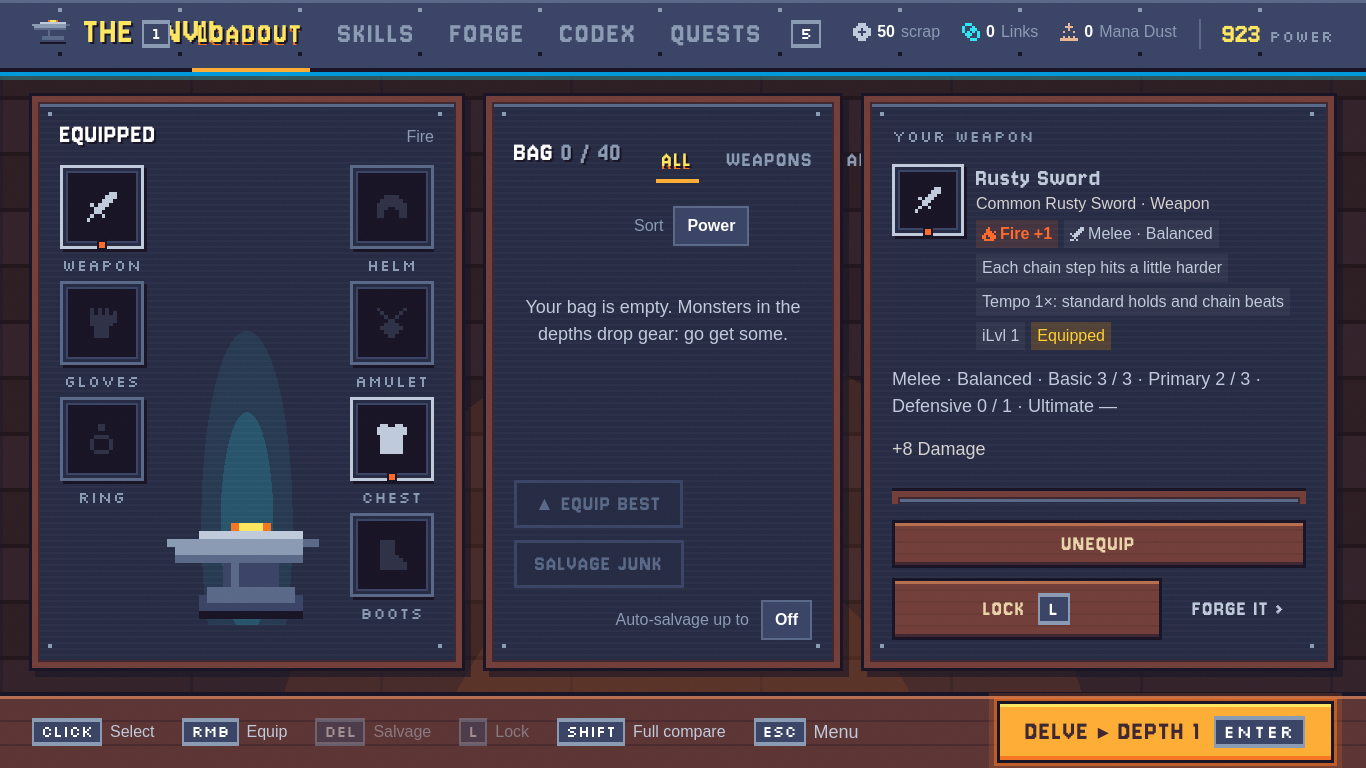
AnvilHub › the sheet's Back (or Esc) returns to the hub without a dive
Click the button with test id "depart-button" at (1165, 732), box top-left (996, 701), bottom-right (1334, 763)
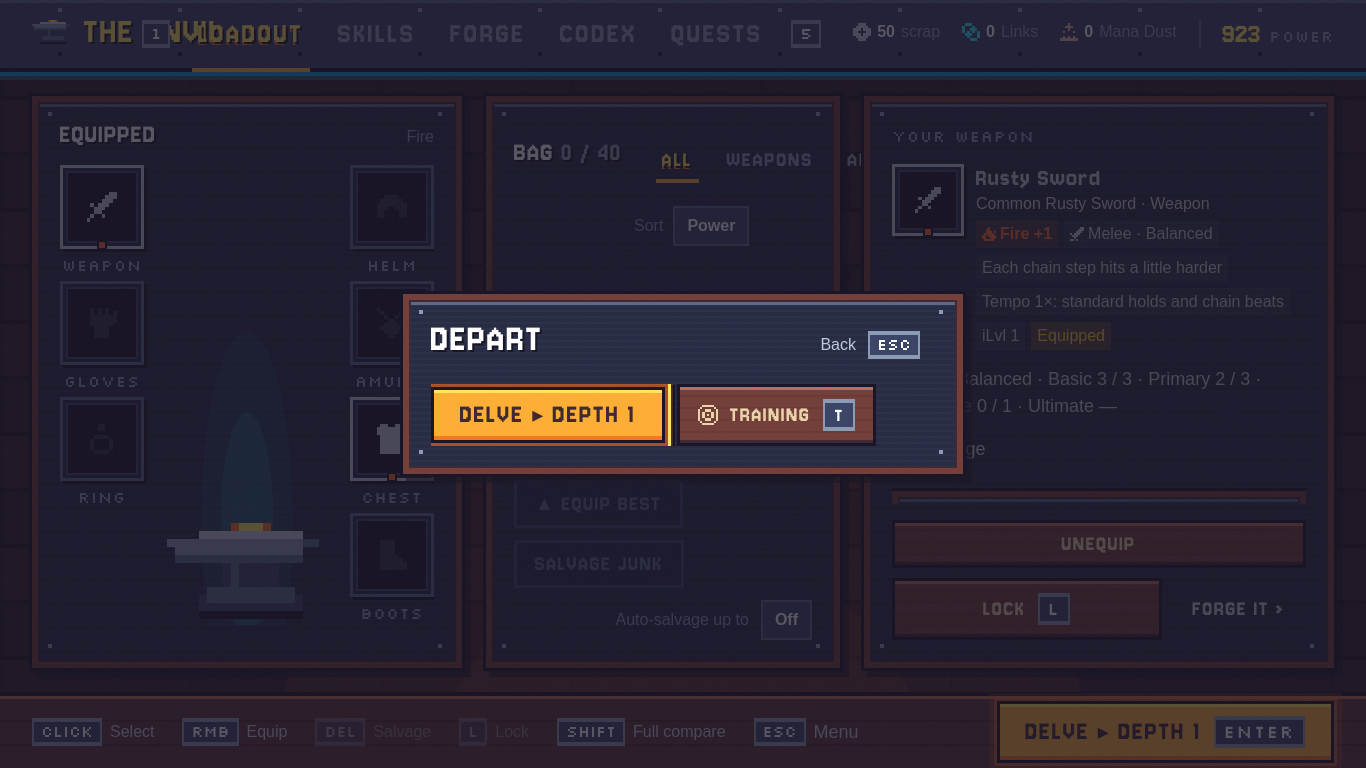
Click the button "Back Esc" at (870, 345), box top-left (805, 322), bottom-right (935, 368)
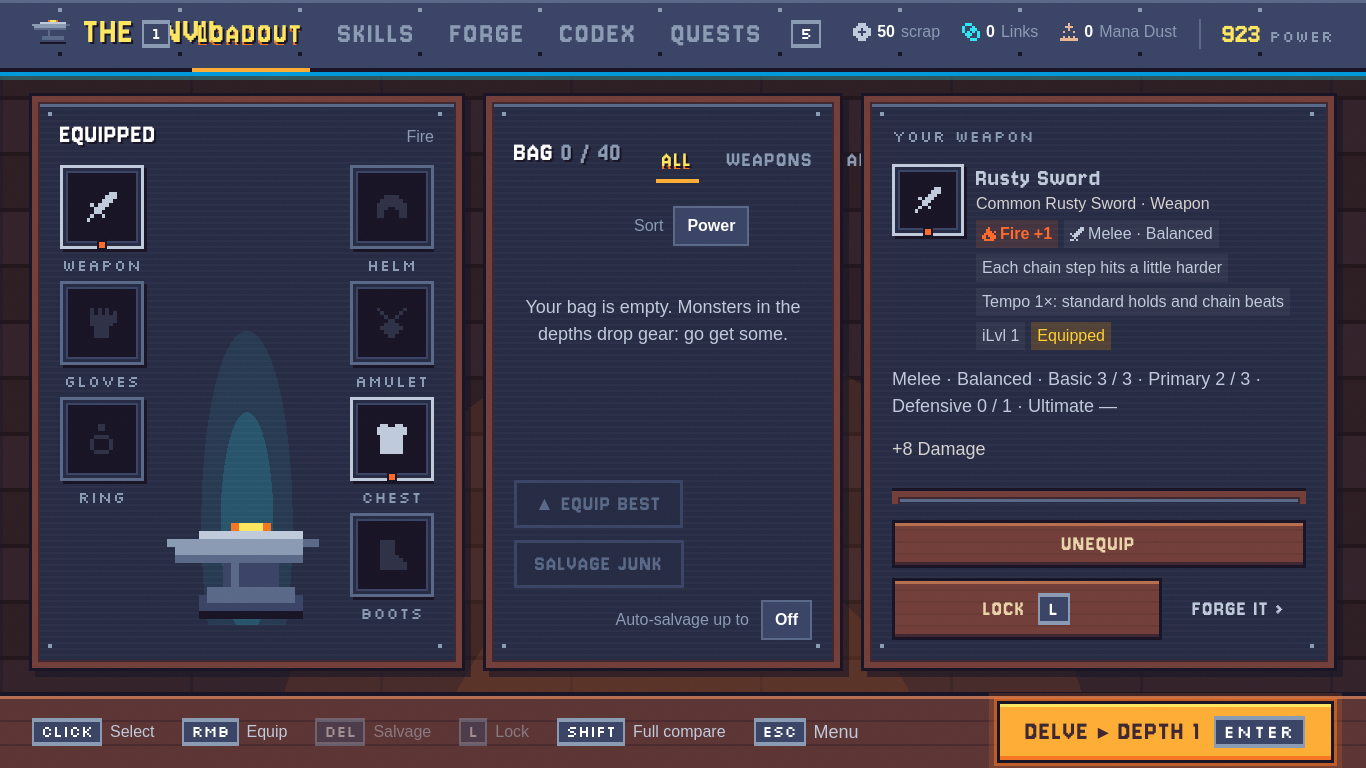
expect the dialog with test id "depart-sheet" is gone: met
Click the button with test id "depart-button" at (1165, 732), box top-left (996, 701), bottom-right (1334, 763)
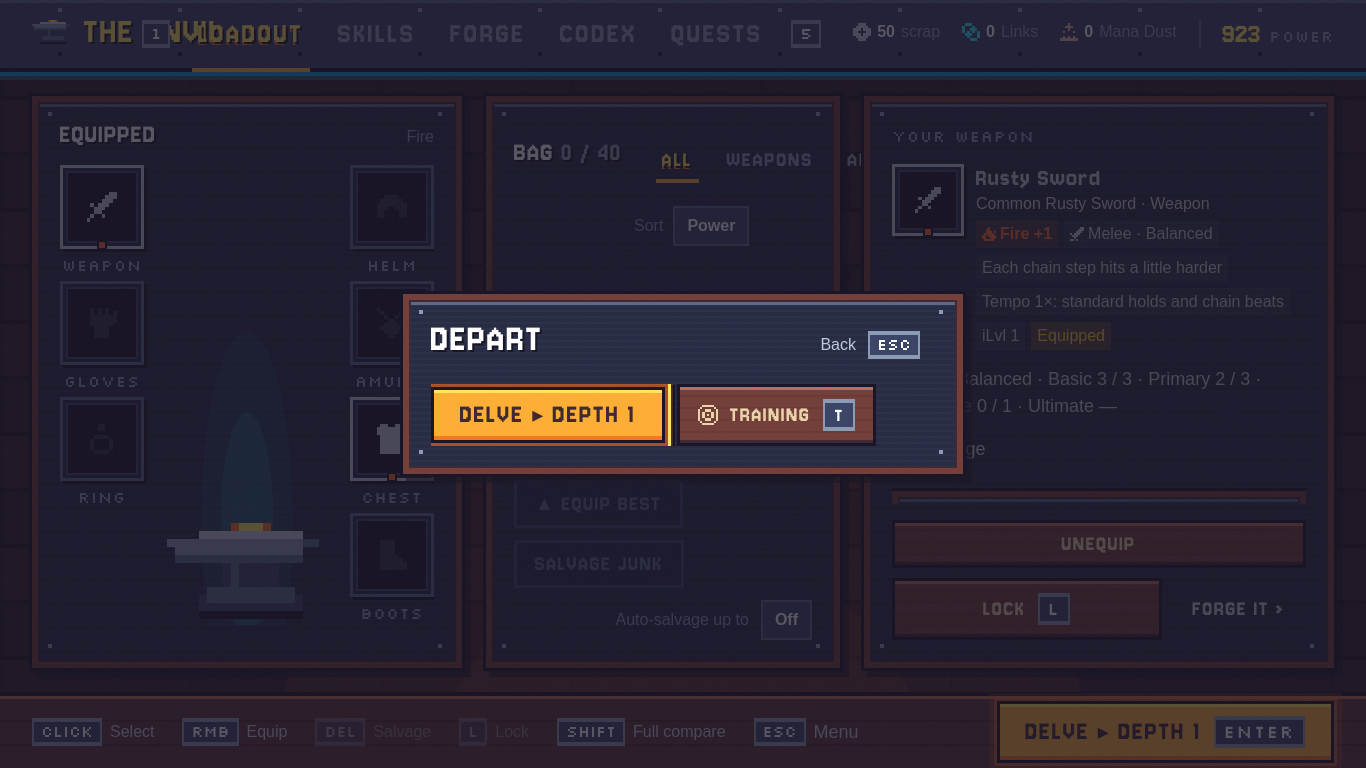
Press Escape
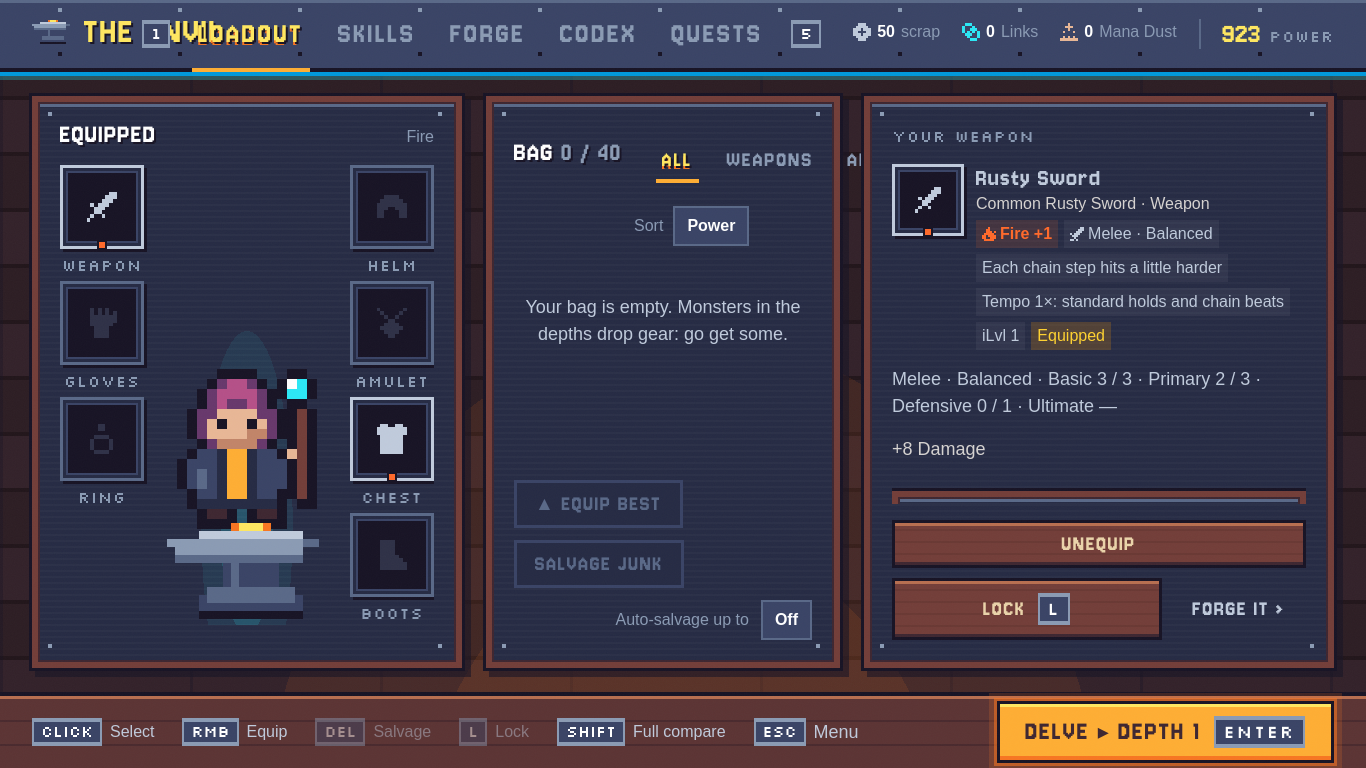
expect the dialog with test id "depart-sheet" is gone: met
